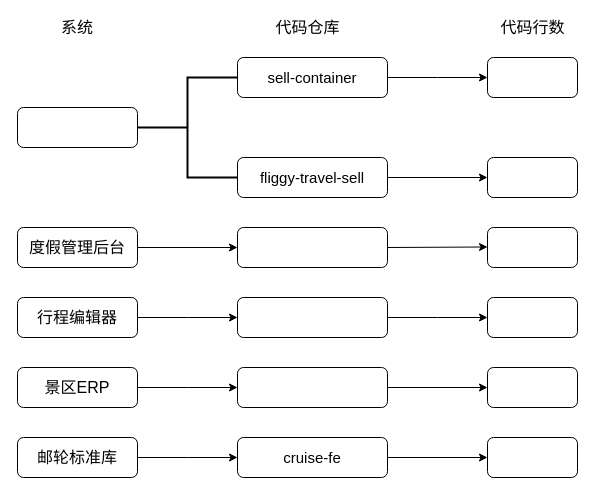
Some shapes in this 595 by 495 pixel diagram are drawn without their labels. The centre of each missing label's shape, as x and y in pixels:
fliggy-ice-material: the point at 312,317
fliggy-travel-qiankun: the point at 312,247
scenic-supply-chain: the point at 312,387
发布端: the point at 77,127
